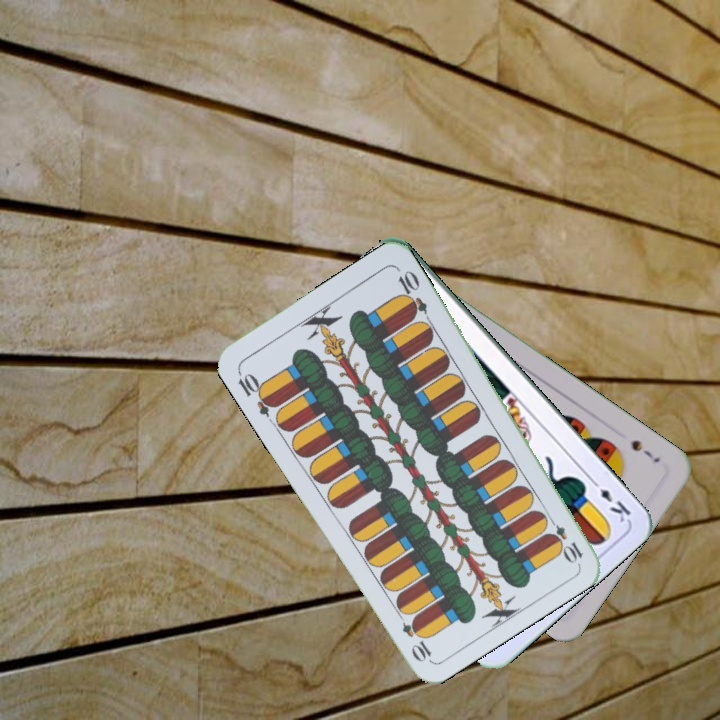E10: (233, 366, 280, 419), (542, 512, 586, 565)
EK: (586, 475, 634, 525)
S7: (627, 435, 663, 466)
